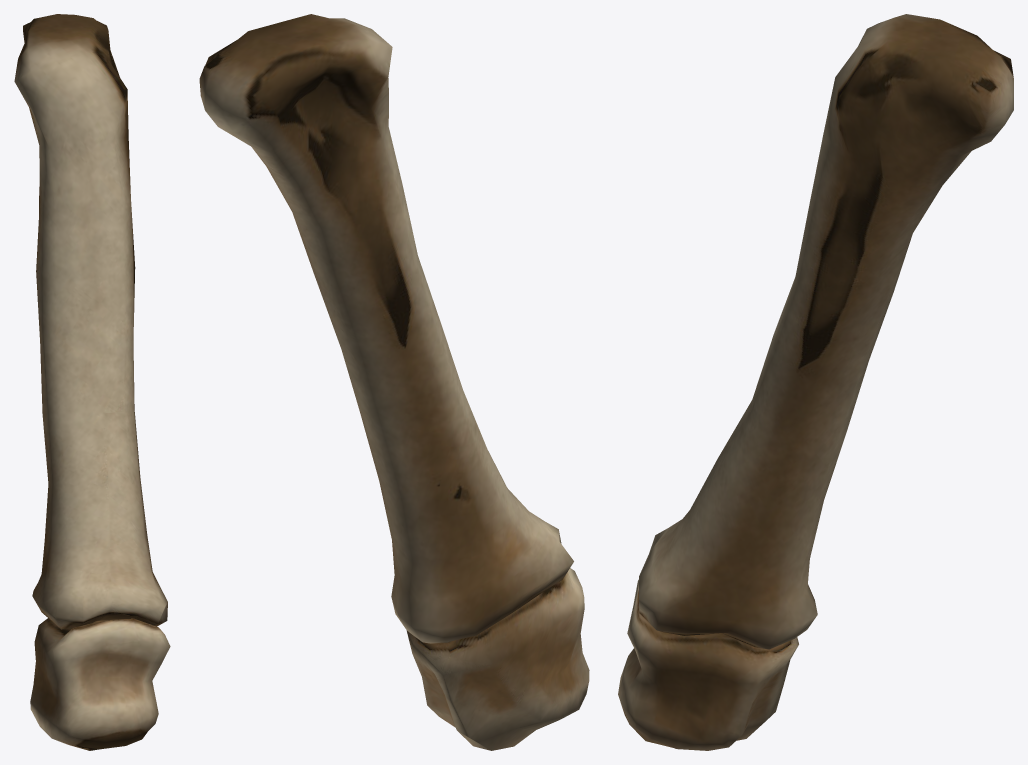
The model's file is Metacarpal_IV.glb.
The picture shows the model from 3 angles, left to right: view 1: azimuth 30°, elevation 25°; view 2: azimuth 150°, elevation 25°; view 3: azimuth 270°, elevation 25°; orthographic projection. The views are drawn at different scales.
Visible parts, largest first — view 1: Metacarpal_IV_Right1:Group9706; view 2: Metacarpal_IV_Right1:Group9706; view 3: Metacarpal_IV_Right1:Group9706.
Boxes of the visible parts, x1,y1,x2,y2 form: Metacarpal_IV_Right1:Group9706: [14, 14, 170, 750]; Metacarpal_IV_Right1:Group9706: [199, 14, 589, 750]; Metacarpal_IV_Right1:Group9706: [618, 14, 1013, 750].
Size of the model in its own units: 15.69 by 52.55 by 25.16.
Materials: 1 (1 with a texture image).
